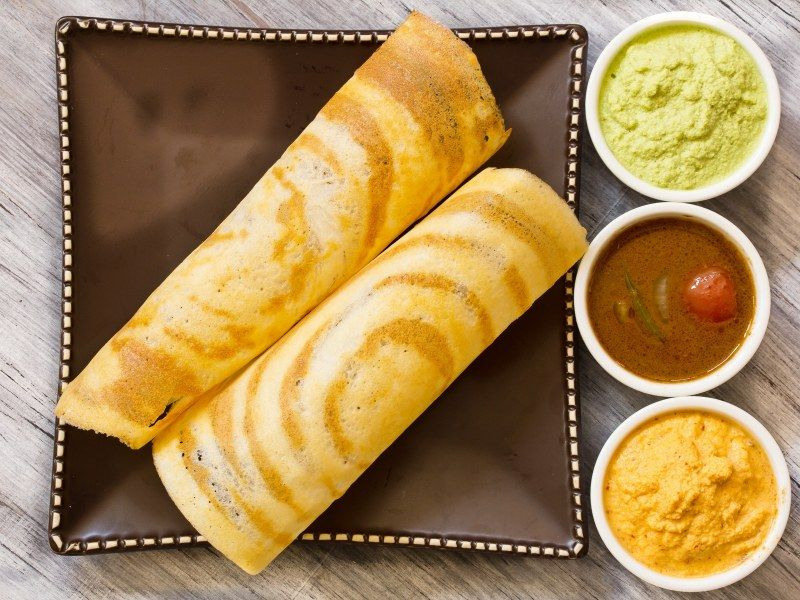dosa: (57, 9, 591, 578)
